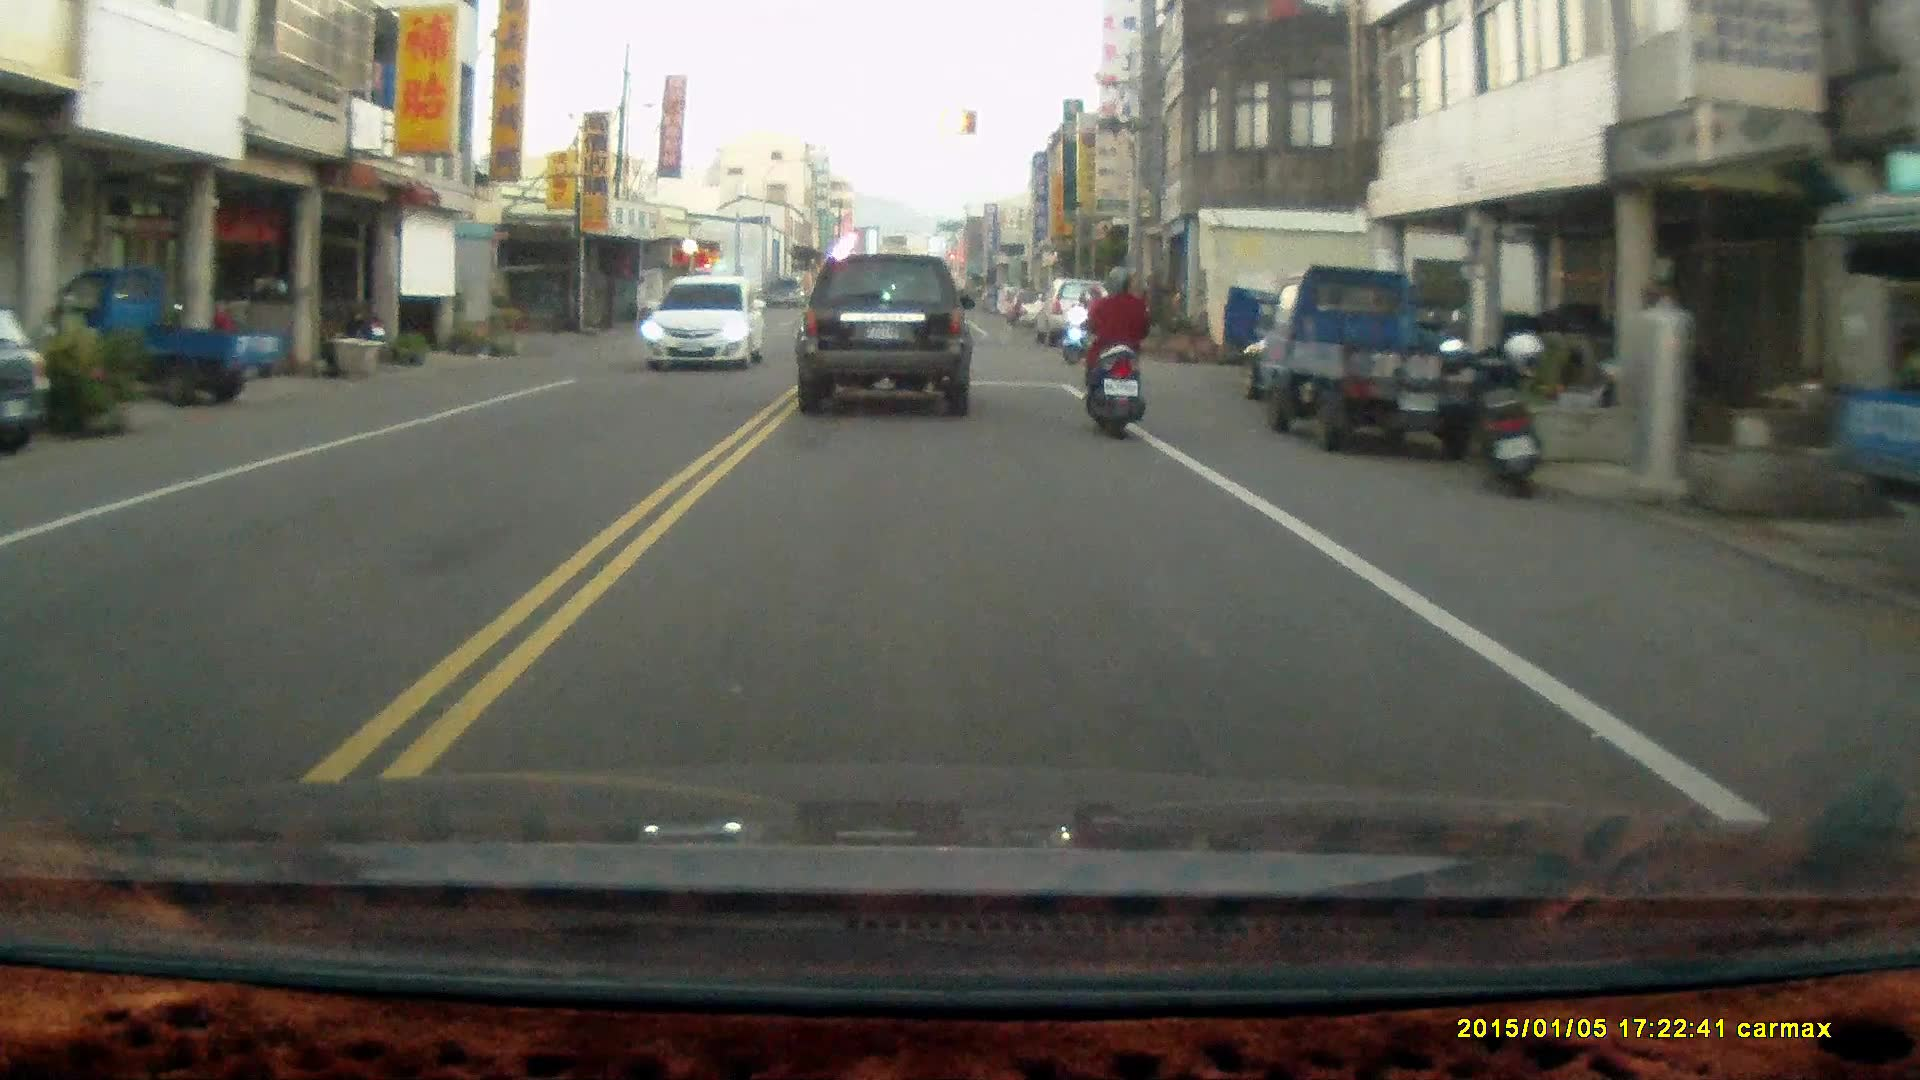rider: (1082, 268, 1147, 446), (1061, 287, 1114, 366)
vehicle: (1260, 262, 1507, 457), (36, 269, 280, 411), (794, 253, 975, 421), (638, 276, 767, 373), (1, 303, 55, 456), (1036, 283, 1116, 351)
